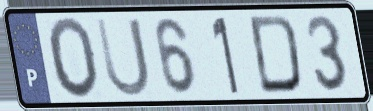1: (209, 14, 242, 96)
3: (305, 12, 353, 95)
6: (152, 16, 199, 97)
D: (247, 12, 305, 97)
O: (46, 14, 102, 102)
U: (93, 15, 153, 99)
